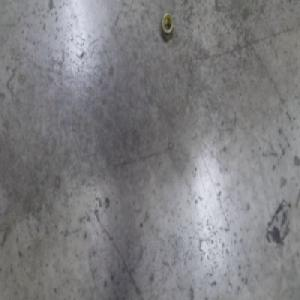Nut: (160, 9, 175, 41)
